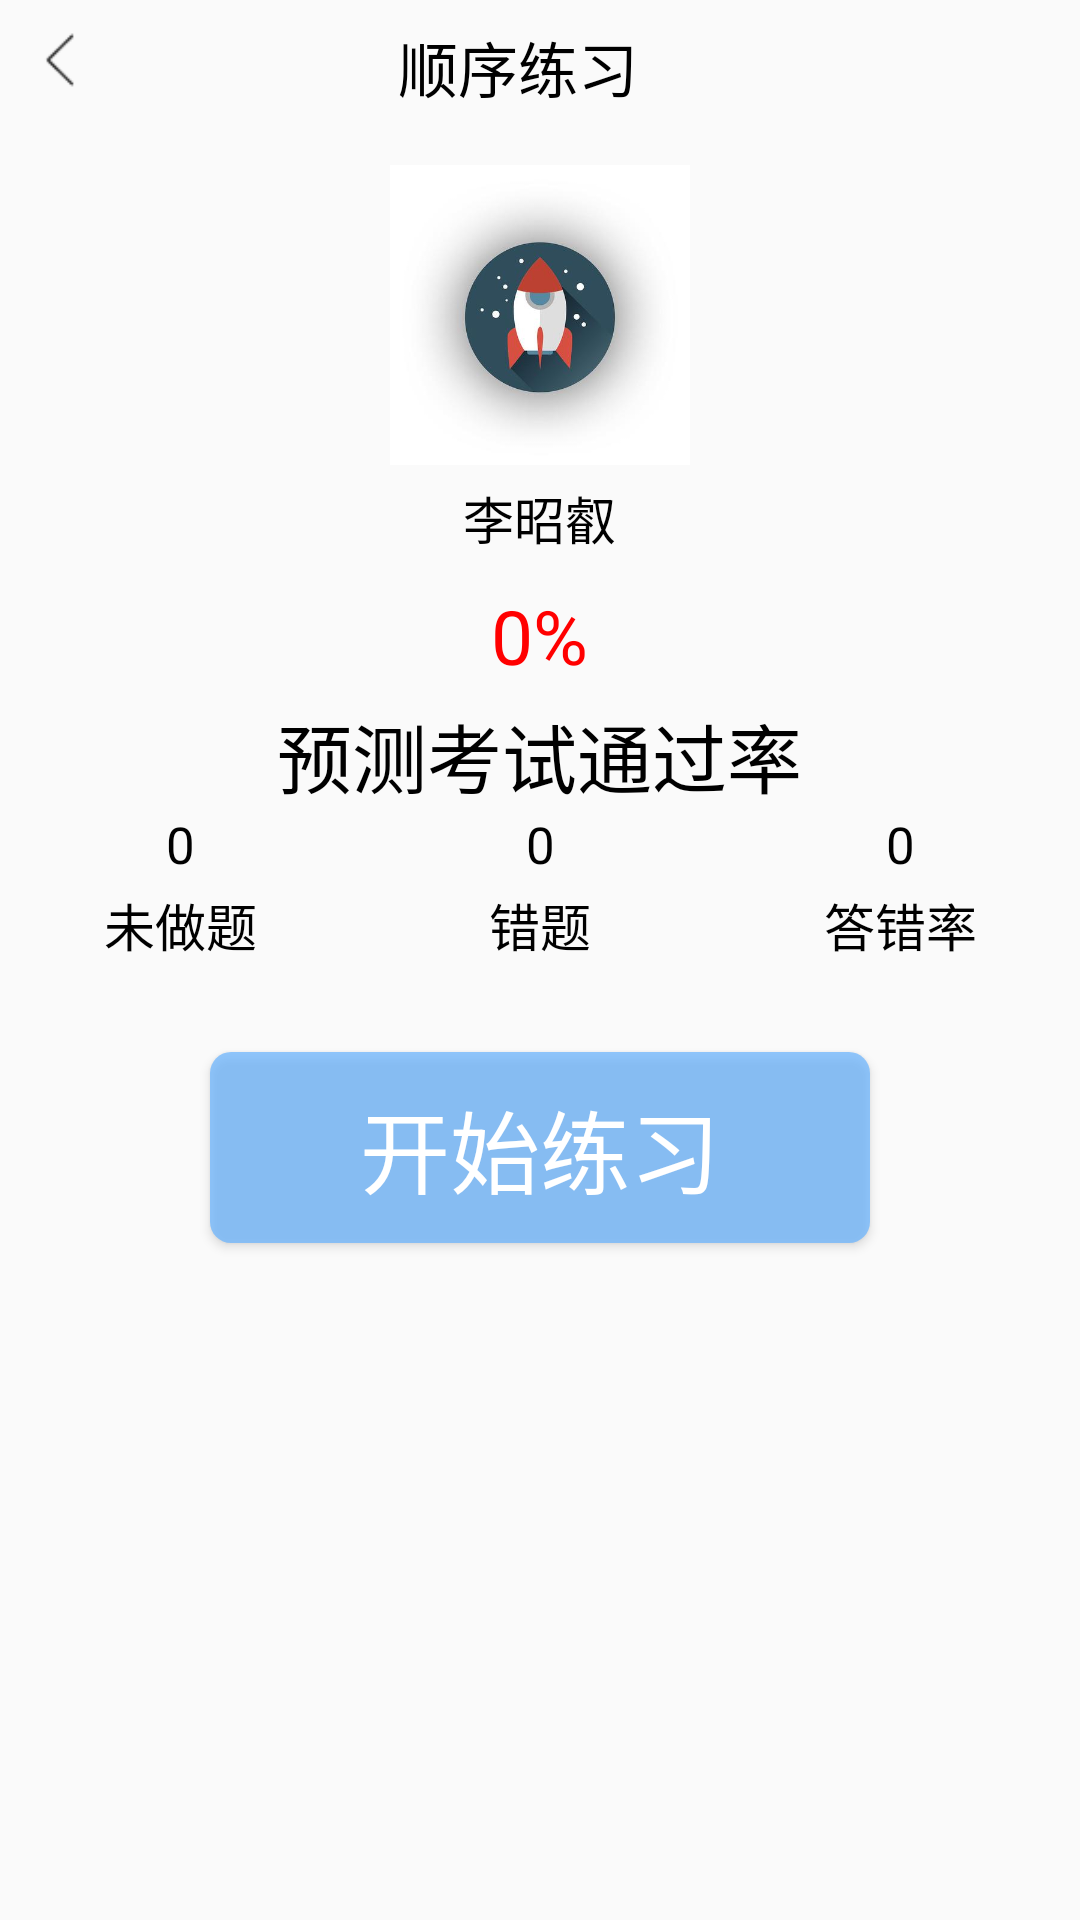

Screen size 1080 × 1920. Icon name, then its box in pixels as bbox=(x1, y1, x2, y2):
if fanhui: bbox=(46, 33, 74, 86)
touxiang: bbox=(438, 218, 641, 420)
